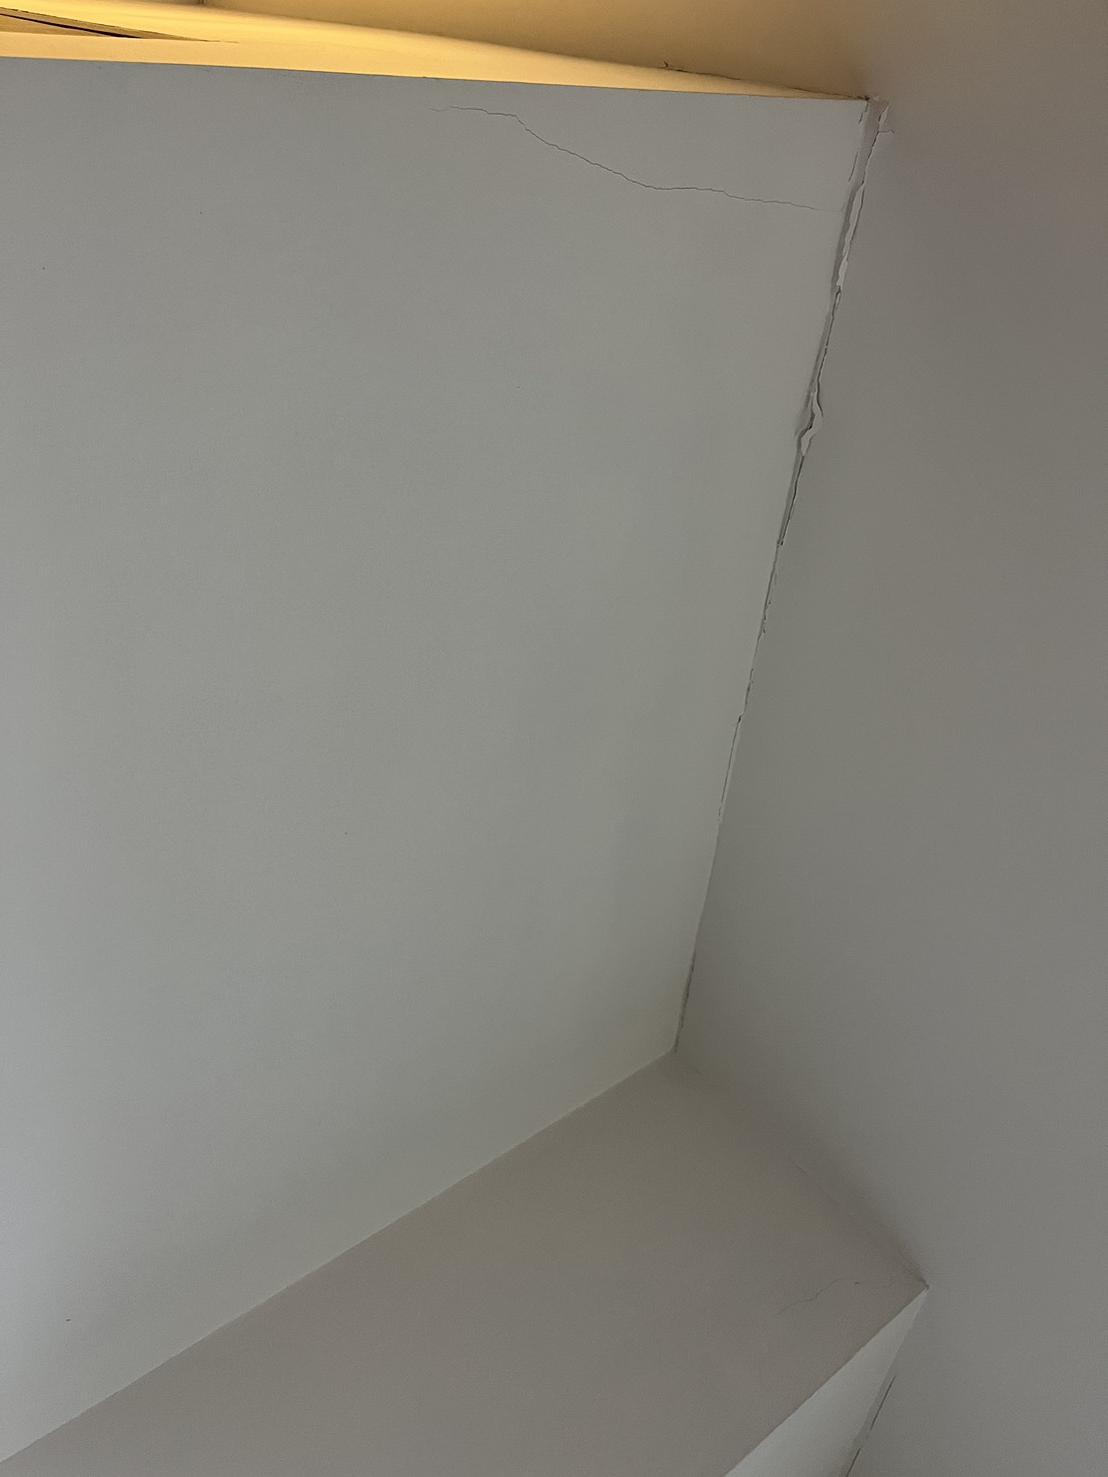Low: (223, 57, 947, 243)
